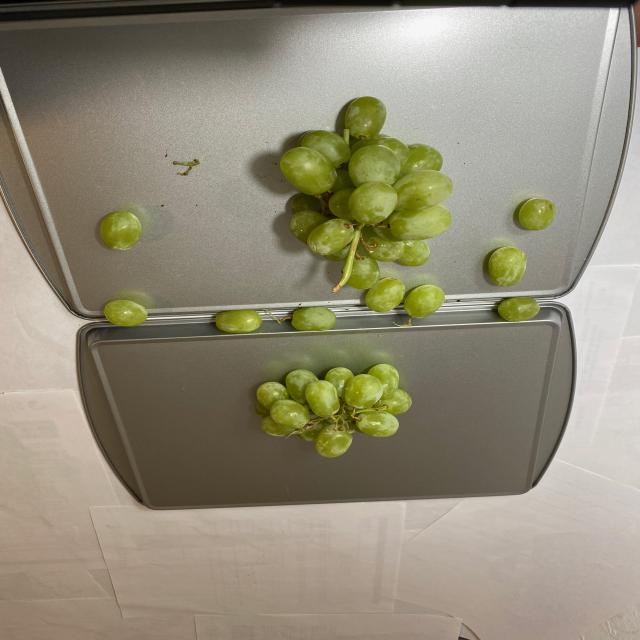grapes: (94, 103, 553, 334), (248, 361, 406, 457)
